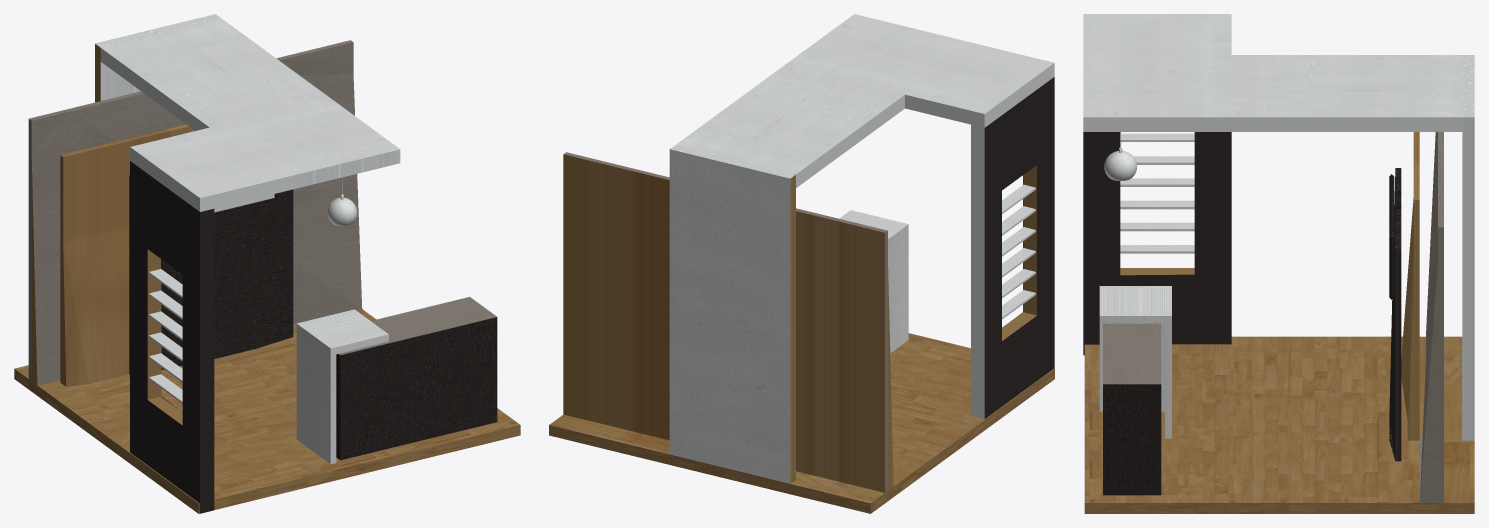
File: Stand2.obj
3 renders of one model, left to right at view 1: azimuth 30°, elevation 25°; view 2: azimuth 150°, elevation 25°; view 3: azimuth 270°, elevation 25°, orthographic. The views are drawn at different scales.
Visible parts, largest first — view 1: Cube, Cube.007, Cube.008, modern_ceiling_lamp_01; view 2: Cube, Cube.008; view 3: Cube, Cube.007, Cube.008, modern_ceiling_lamp_01, Cube.004, Cube.005, Cube.009, Cube.006, Cube.001, Cube.003, Cube.002.
Part boxes in pixels (x1,y1,x2,y2): Cube: (14,14,520,513); Cube.007: (336,297,497,460); Cube.008: (296,309,388,464); modern_ceiling_lamp_01: (327,177,357,226); Cube: (549,14,1054,513); Cube.008: (839,210,908,352); Cube: (1083,14,1474,513); Cube.007: (1103,323,1161,495); Cube.008: (1099,286,1171,438); modern_ceiling_lamp_01: (1104,132,1137,180); Cube.004: (1120,200,1194,209); Cube.005: (1120,222,1194,231); Cube.009: (1389,174,1394,299); Cube.006: (1120,245,1194,253); Cube.001: (1120,133,1194,141); Cube.003: (1120,178,1194,186); Cube.002: (1133,156,1194,164).
Bounding box in the file's own units: 16.02 × 15.02 × 15.94.
9 materials, 9 textured.
